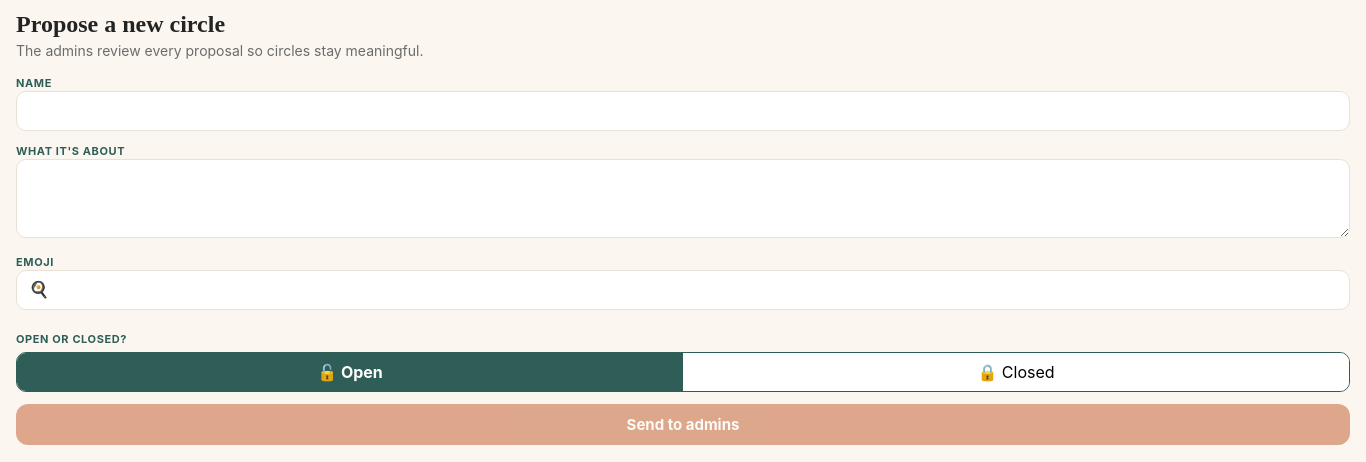
Test: propose form requires a name and sends visibility
The image size is (1366, 462).
Check: the button "Send to admins" is disabled, box [16, 404, 1350, 445]
In the field labelled "Name": (683,111) [16, 91, 1350, 131], type "Supper Club"
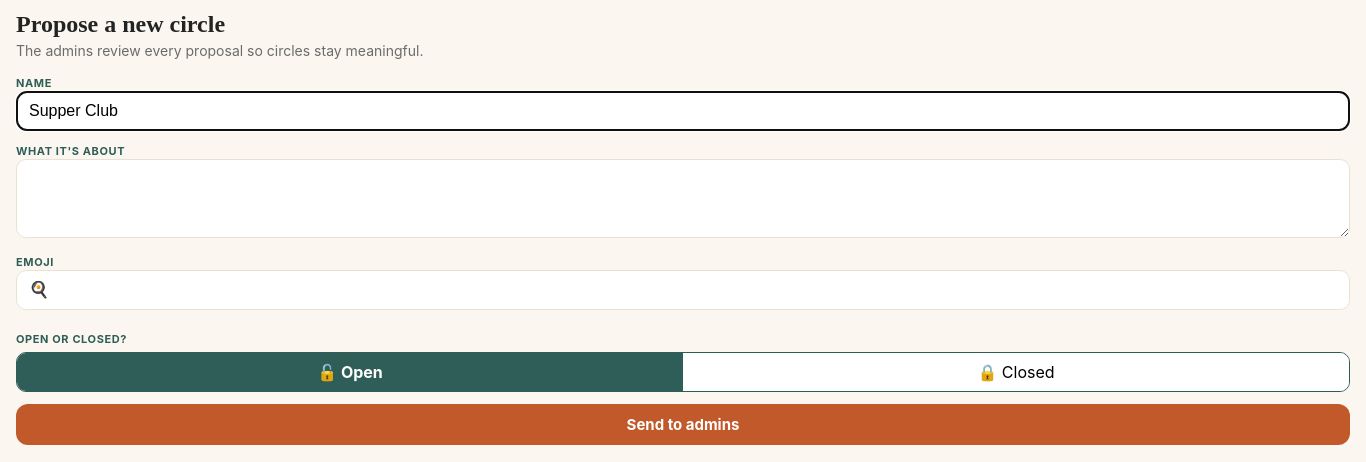
Click the button "🔒 Closed": (1016,372) [683, 353, 1349, 391]
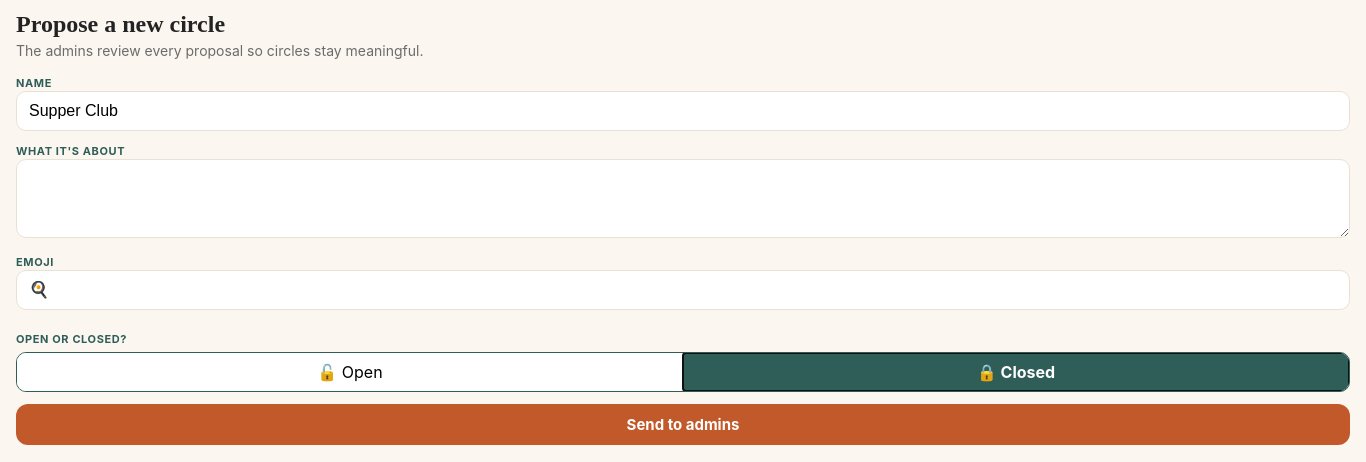
Click the button "Send to admins": (683,424) [16, 404, 1350, 445]
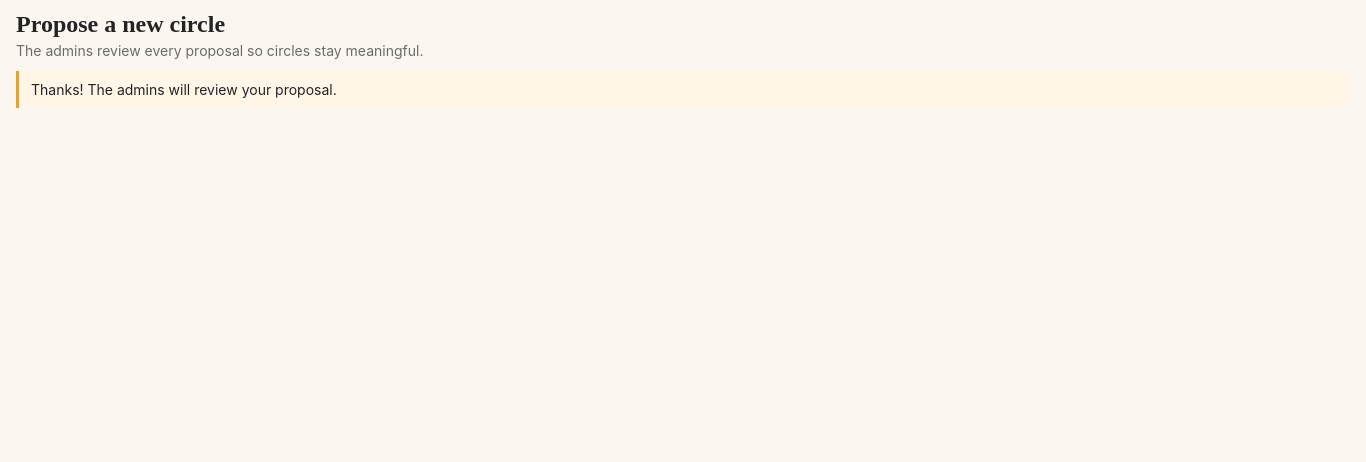
Check: the text "Thanks! The admins will review your proposal." is shown, box [16, 71, 1350, 108]
